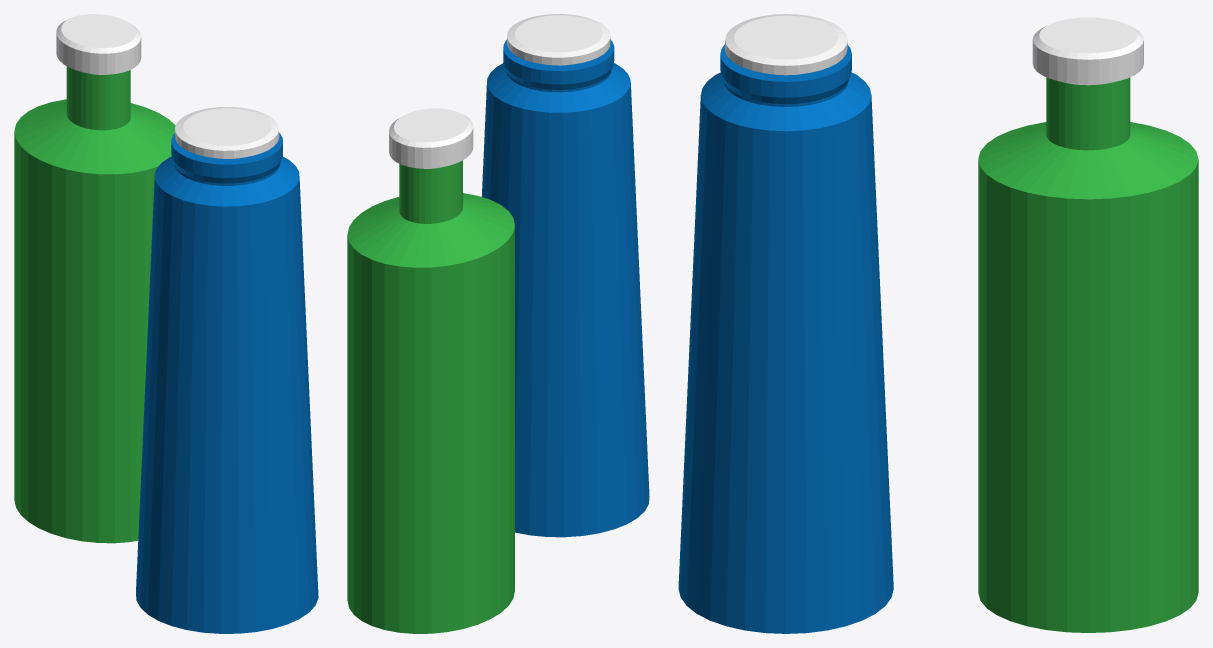
The model's file is shampoon.fbx.
The picture shows the model from 3 angles, left to right: view 1: azimuth 30°, elevation 25°; view 2: azimuth 150°, elevation 25°; view 3: azimuth 270°, elevation 25°; orthographic projection. The views are drawn at different scales.
Visible parts, largest first — view 1: shampoon2, shampoon1; view 2: shampoon1, shampoon2; view 3: shampoon1, shampoon2.
Boxes of the visible parts, box(x1,y1,x2,y2) form: shampoon2: box(136, 107, 318, 633); shampoon1: box(14, 14, 175, 543); shampoon1: box(347, 108, 514, 633); shampoon2: box(481, 14, 649, 537); shampoon1: box(978, 17, 1198, 632); shampoon2: box(678, 14, 893, 633).
Bounding box in the file's own units: 53.34 × 152 × 129.
